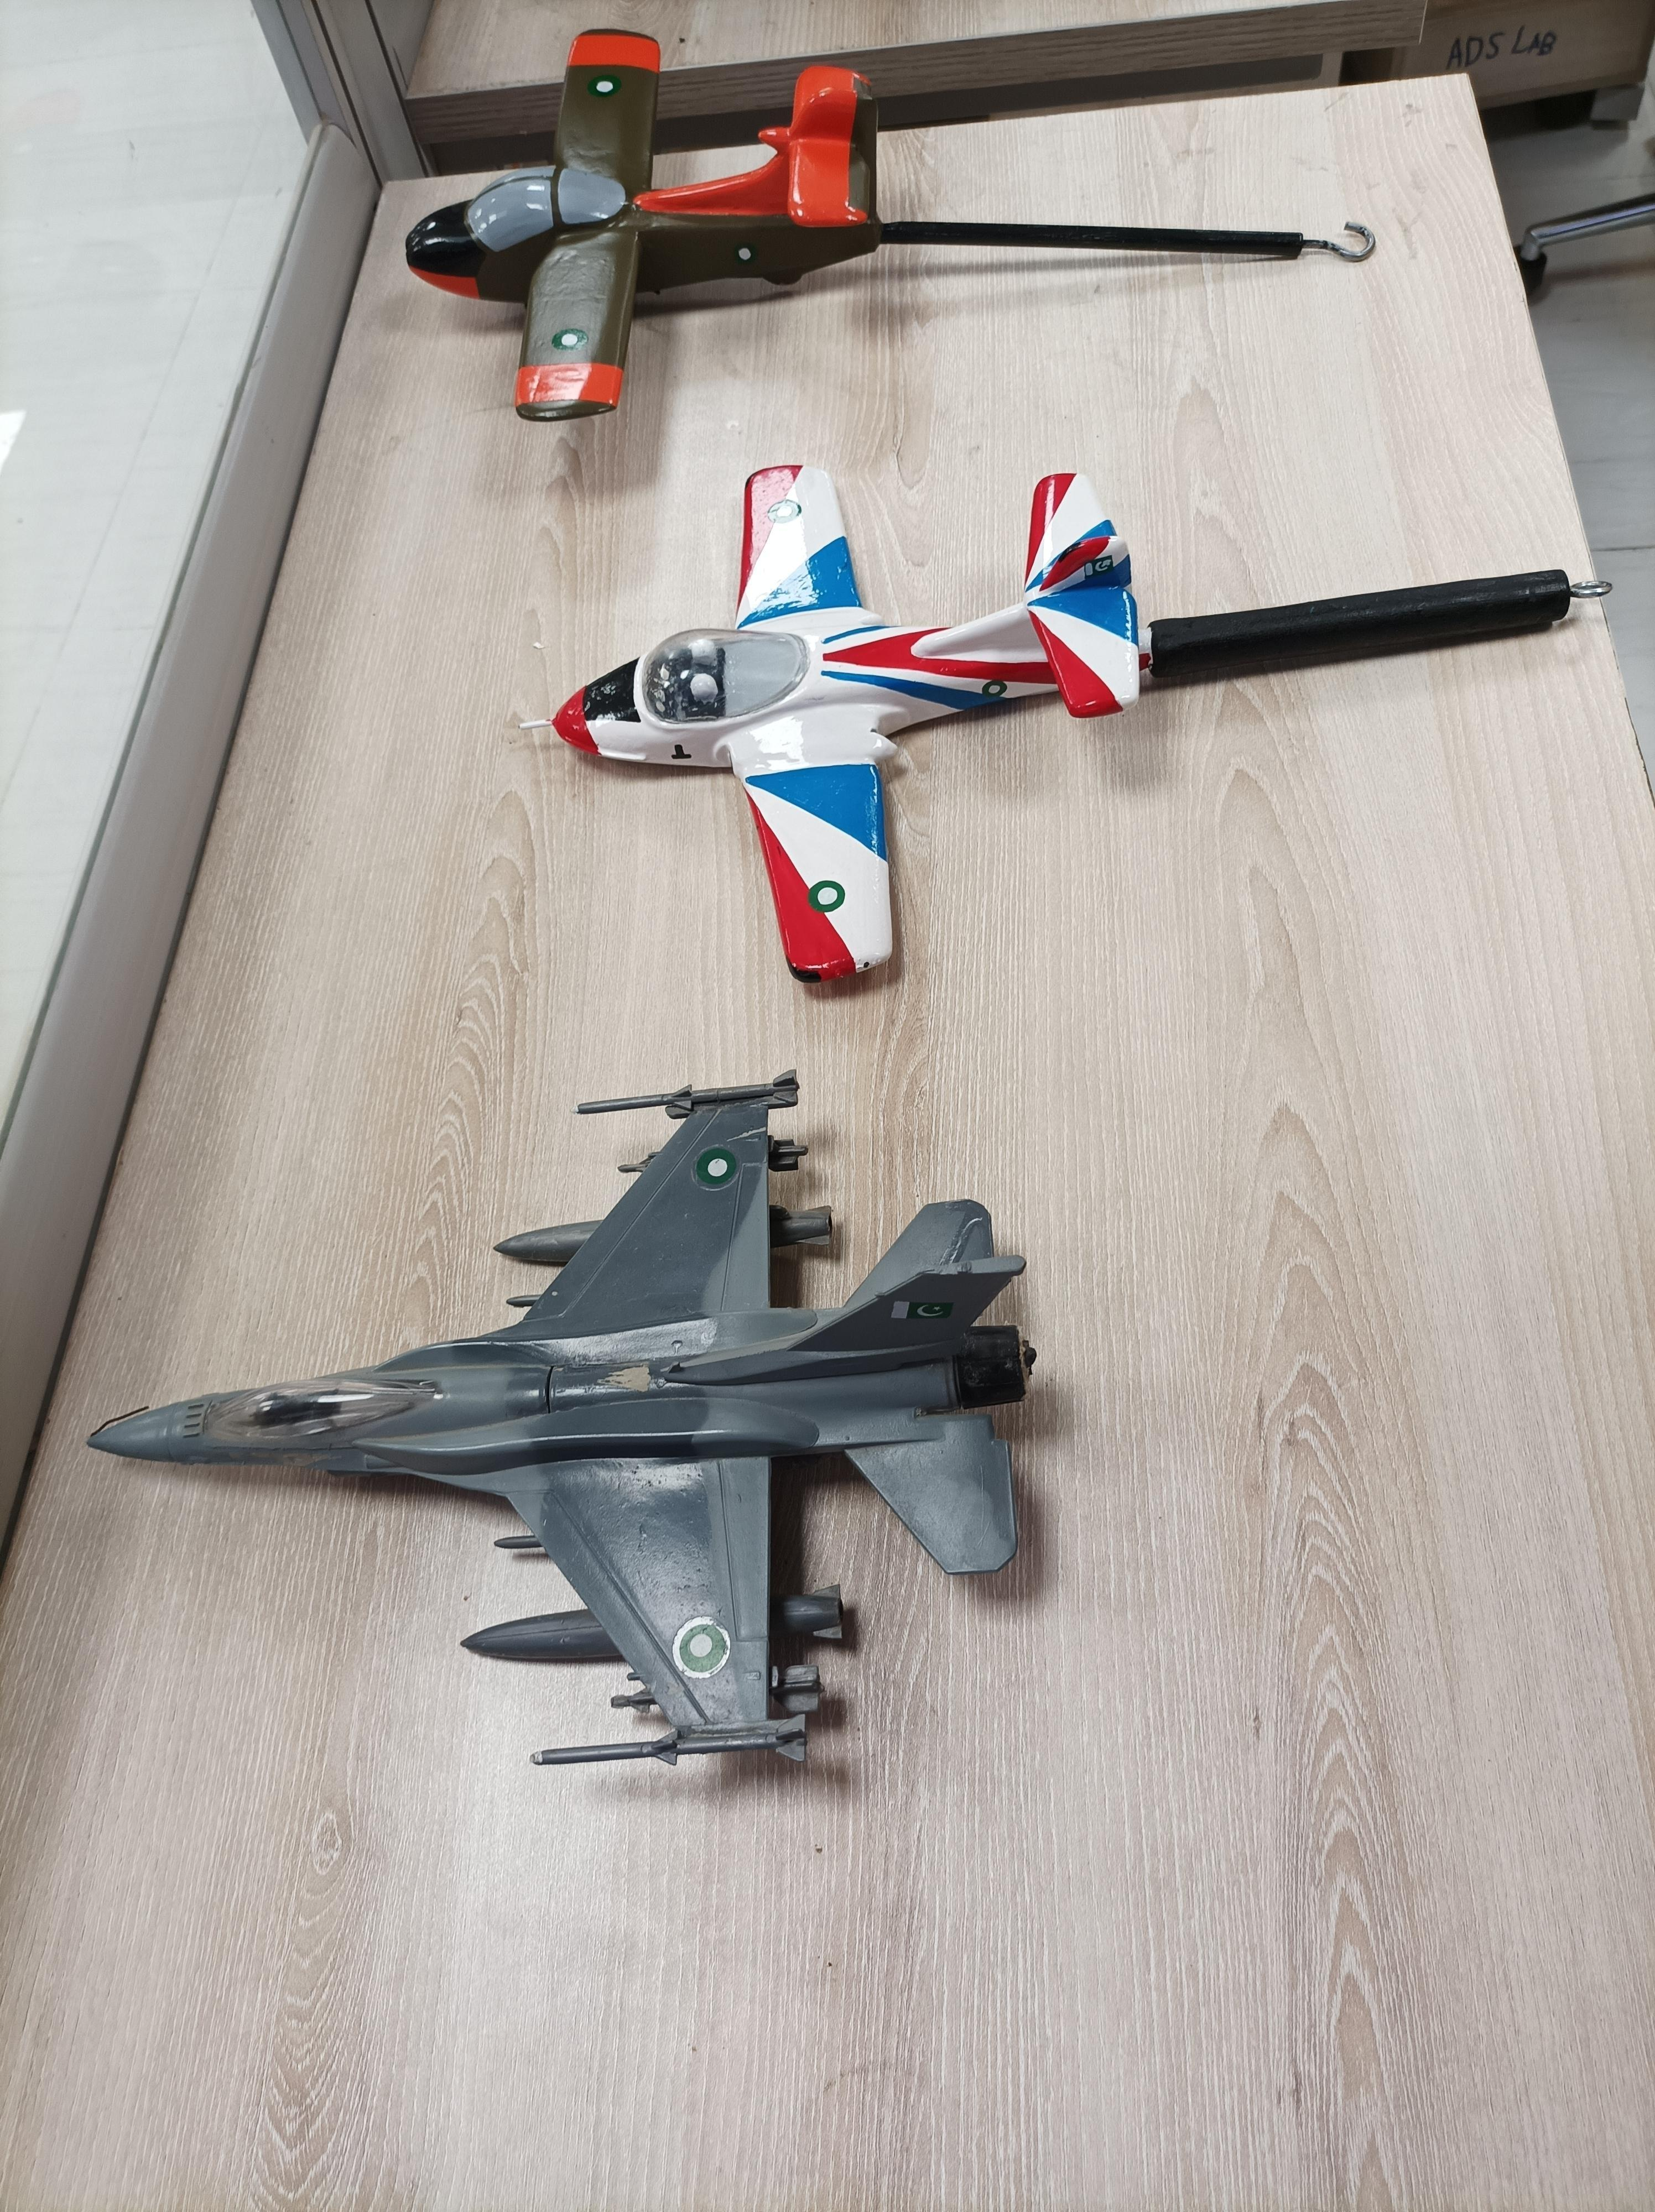Airplane: (61, 1062, 1057, 1805), (525, 445, 1180, 997), (329, 3, 921, 443)
